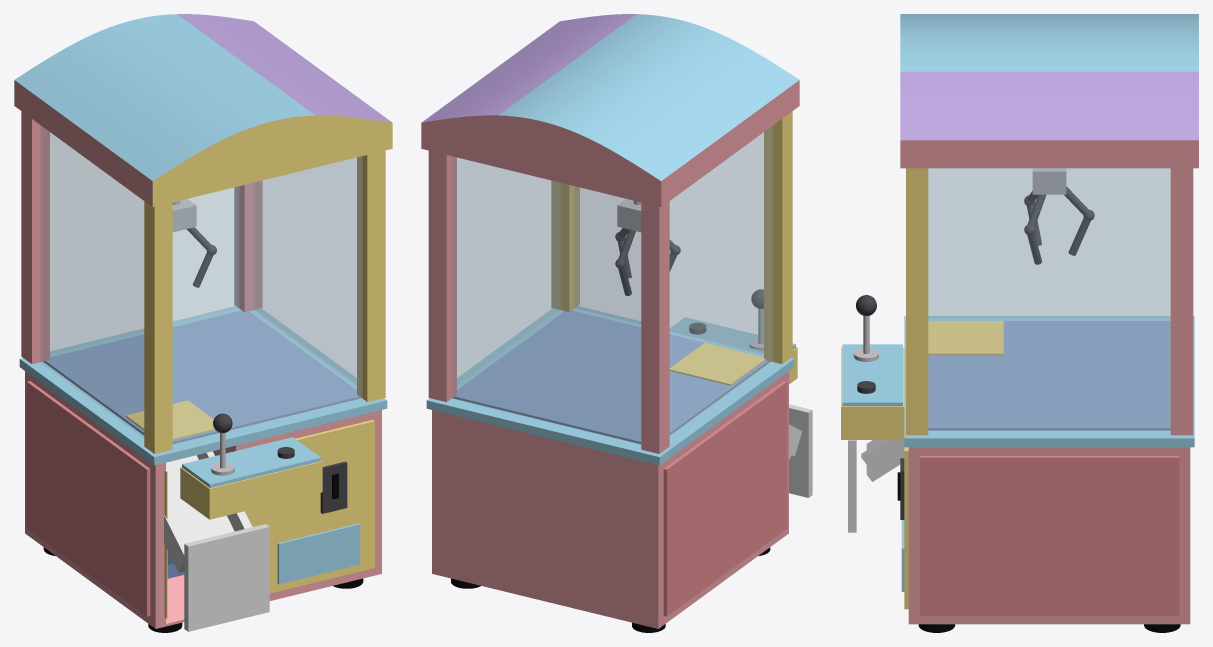
The model's file is claw_machine_chute.glb.
3 views of the same model, side by side, from view 1: azimuth 30°, elevation 25°; view 2: azimuth 150°, elevation 25°; view 3: azimuth 270°, elevation 25° (orthographic). The views are drawn at different scales.
Visible parts, largest first — view 1: 屋頂, 玻璃前, 玻璃左, 玻璃後, 玩區地板, 左側面板, 玻璃右, 前面板, 頂板, 機台主體, 出貨口內框, 柱子1 (+11 smaller); view 2: 屋頂, 玻璃後, 機台主體, 玻璃左, 玻璃前, 玩區地板, 左側面板, 玻璃右, 頂板, 柱子3, 柱子4, 柱子1 (+5 smaller); view 3: 玻璃右, 屋頂, 右側面板, 玻璃左, 玩區地板, 機台主體, 頂板, 柱子4, 柱子2, 操作台面, 出貨洞, 操作台 (+4 smaller).
Boxes of the visible parts, bbox=[...] form: 屋頂: bbox=[14, 14, 392, 206]; 玻璃前: bbox=[173, 156, 362, 444]; 玻璃左: bbox=[40, 126, 143, 437]; 玻璃後: bbox=[50, 133, 239, 354]; 玩區地板: bbox=[43, 310, 361, 444]; 左側面板: bbox=[27, 381, 150, 616]; 玻璃右: bbox=[253, 158, 356, 385]; 前面板: bbox=[164, 420, 374, 618]; 頂板: bbox=[19, 306, 387, 465]; 機台主體: bbox=[25, 371, 381, 628]; 出貨口內框: bbox=[184, 524, 269, 631]; 柱子1: bbox=[144, 201, 172, 453]; 屋頂: bbox=[421, 14, 799, 206]; 玻璃後: bbox=[451, 157, 640, 444]; 機台主體: bbox=[432, 371, 788, 628]; 玻璃左: bbox=[670, 126, 773, 437]; 玻璃前: bbox=[575, 133, 763, 354]; 玩區地板: bbox=[452, 310, 770, 444]; 左側面板: bbox=[663, 381, 787, 616]; 玻璃右: bbox=[457, 158, 560, 385]; 頂板: bbox=[426, 306, 794, 465]; 柱子3: bbox=[641, 201, 669, 453]; 柱子4: bbox=[428, 150, 456, 401]; 柱子1: bbox=[764, 111, 792, 363]; 玻璃右: bbox=[928, 168, 1170, 430]; 屋頂: bbox=[900, 14, 1198, 168]; 右側面板: bbox=[920, 456, 1179, 615]; 玻璃左: bbox=[929, 169, 1169, 318]; 玩區地板: bbox=[928, 321, 1170, 430]; 機台主體: bbox=[908, 447, 1190, 624]; 頂板: bbox=[904, 316, 1194, 447]; 柱子4: bbox=[1170, 168, 1193, 435]; 柱子2: bbox=[906, 168, 928, 435]; 操作台面: bbox=[842, 344, 902, 406]; 出貨洞: bbox=[928, 321, 1003, 355]; 操作台: bbox=[841, 347, 904, 439].
Bounding box in the file's own units: 2.12 × 4.18 × 2.54.
